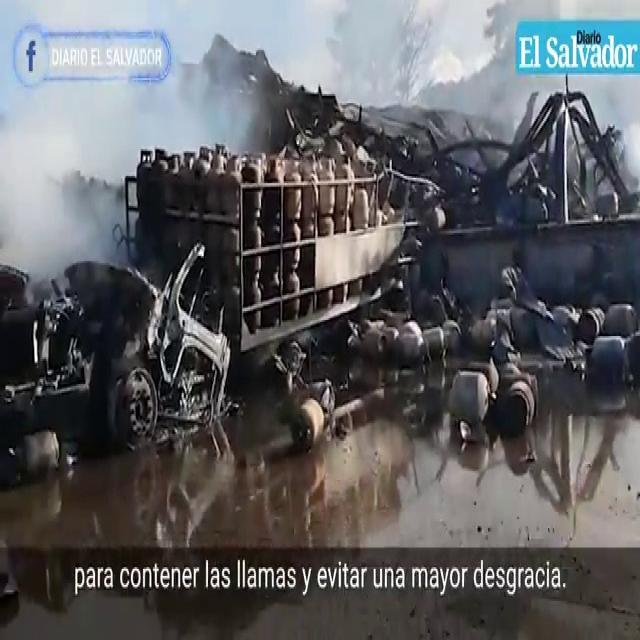Smoke: (15, 29, 238, 260), (322, 10, 516, 119)
